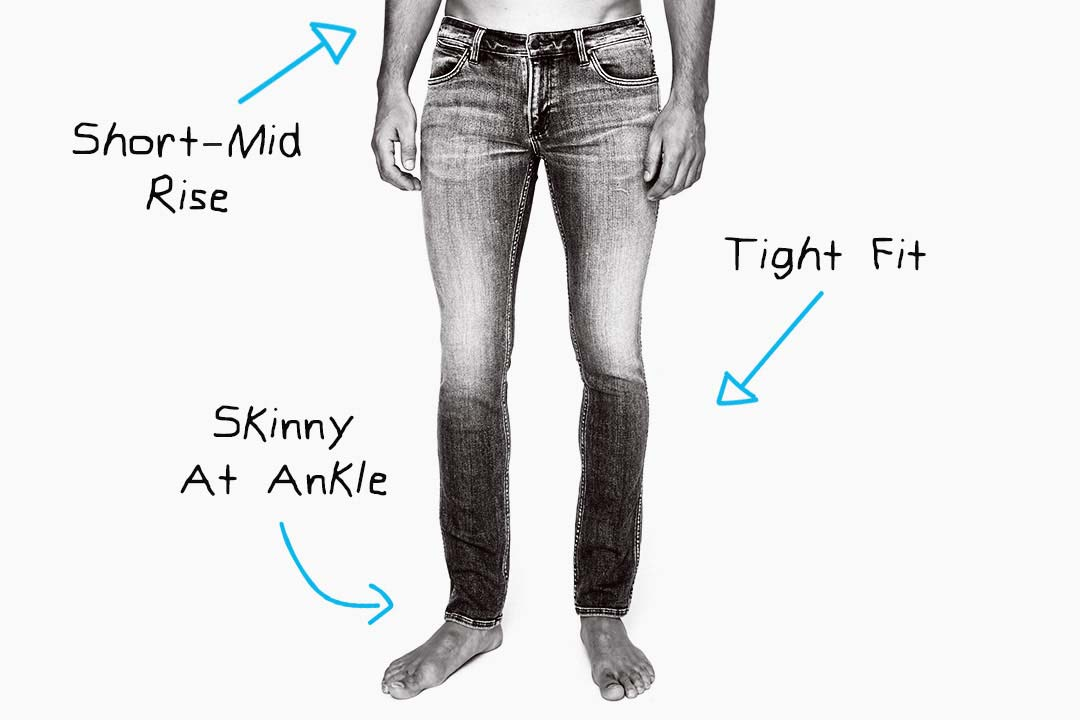jeans: (388, 13, 663, 631)
